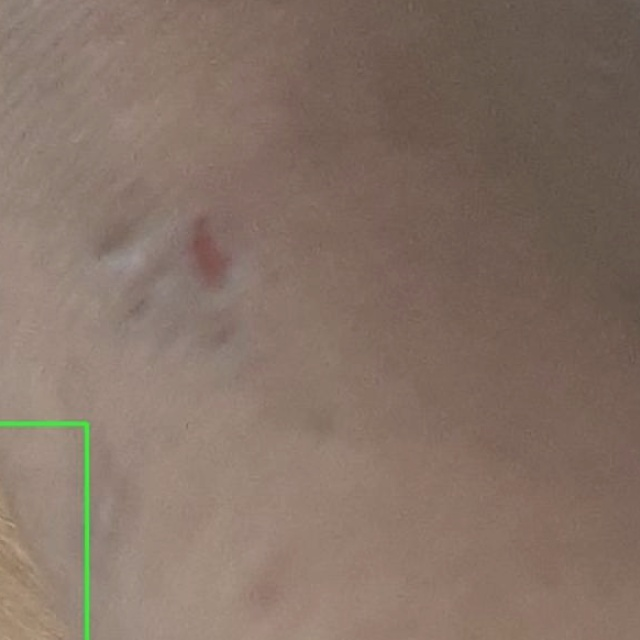Atopic Dermatitis: (0, 423, 86, 639)
